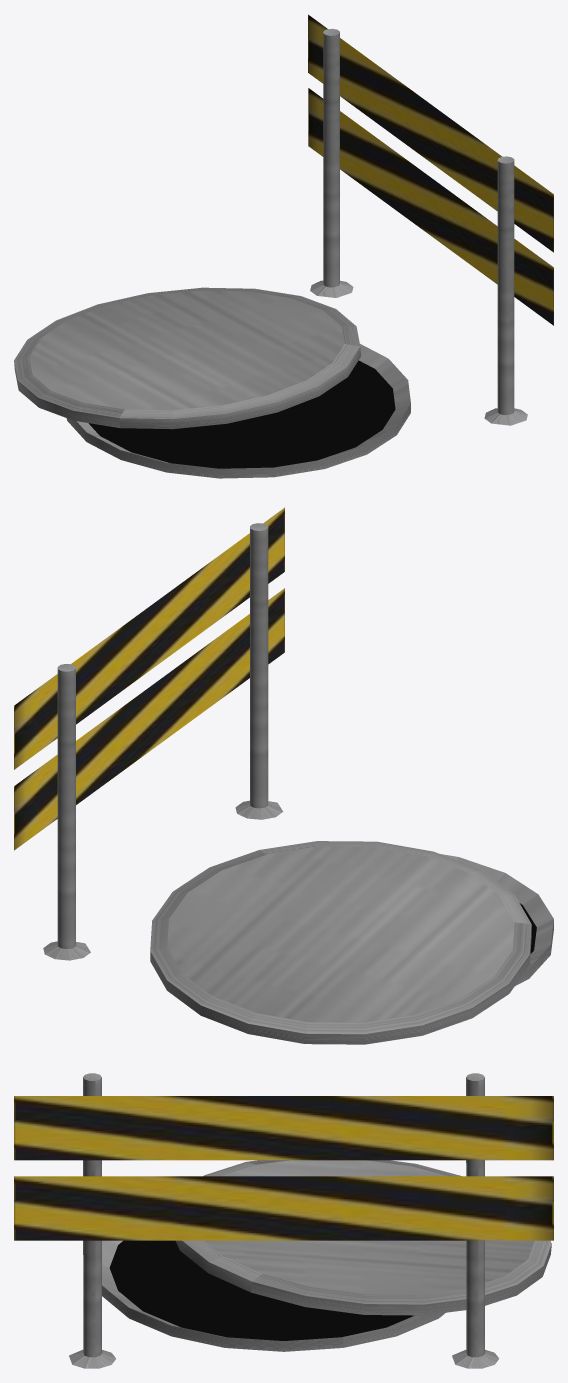
File: Obstacle_Sewer.fbx
The picture shows the model from 3 angles, top to bottom: view 1: azimuth 30°, elevation 25°; view 2: azimuth 150°, elevation 25°; view 3: azimuth 270°, elevation 25°; orthographic projection. The views are drawn at different scales.
Parts seen in each view (by area): view 1: pCylinder5, pCylinder1, pPlane1, pPlane2, pCylinder6, pCylinder4; view 2: pCylinder5, pPlane1, pPlane2, pCylinder6, pCylinder4, pCylinder1; view 3: pPlane1, pPlane2, pCylinder5, pCylinder1, pCylinder4, pCylinder6.
Part boxes in pixels (x1,y1,x2,y2): pCylinder5: [14, 287, 360, 429]; pCylinder1: [66, 344, 410, 478]; pPlane1: [308, 14, 553, 252]; pPlane2: [308, 88, 553, 325]; pCylinder6: [484, 156, 527, 425]; pCylinder4: [310, 28, 353, 297]; pCylinder5: [150, 841, 531, 1044]; pPlane1: [14, 507, 284, 769]; pPlane2: [14, 588, 284, 850]; pCylinder6: [235, 523, 283, 819]; pCylinder4: [43, 664, 90, 960]; pCylinder1: [440, 854, 553, 985]; pPlane1: [14, 1096, 553, 1160]; pPlane2: [14, 1176, 553, 1240]; pCylinder5: [175, 1160, 551, 1315]; pCylinder1: [102, 1240, 445, 1351]; pCylinder4: [452, 1073, 499, 1368]; pCylinder6: [69, 1073, 115, 1368].
Bounding box in the file's own units: 2.42 × 1.68 × 2.82.
3 materials, 2 textured.
